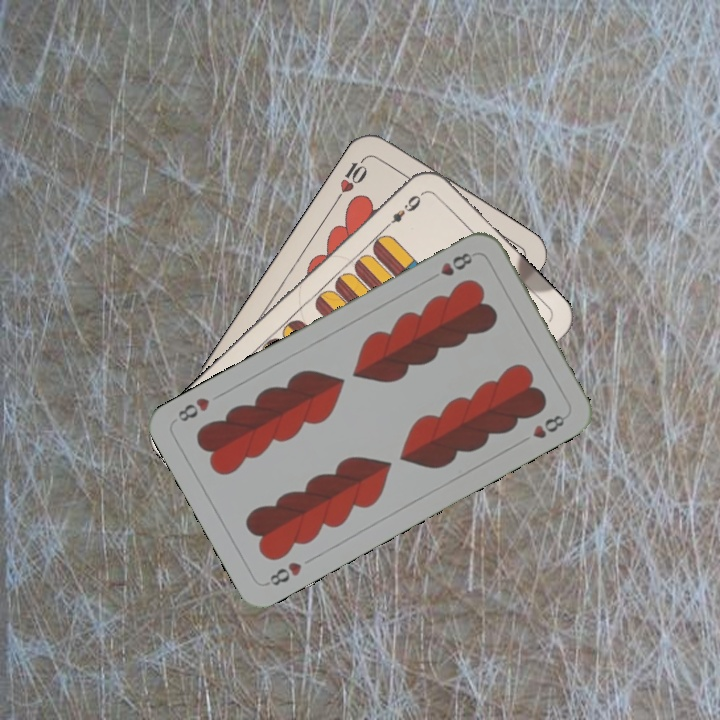E9: (379, 188, 426, 234)
H10: (332, 151, 372, 204)
H8: (424, 248, 477, 284), (261, 558, 305, 589)
